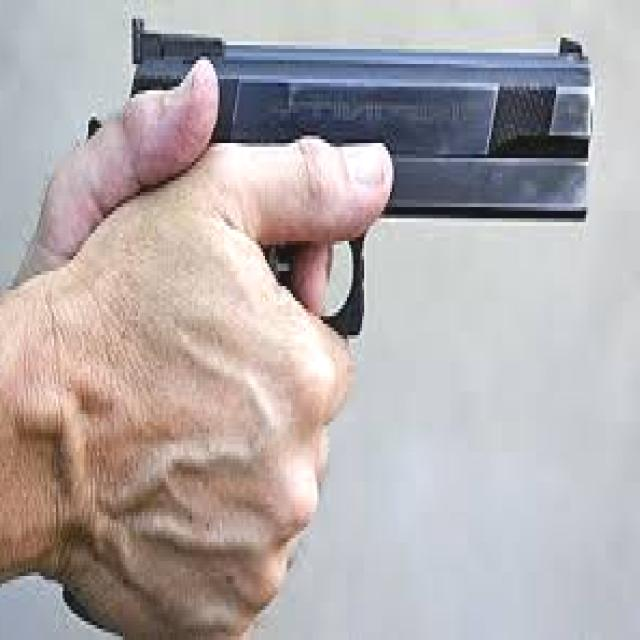pistol: (78, 11, 594, 362)
